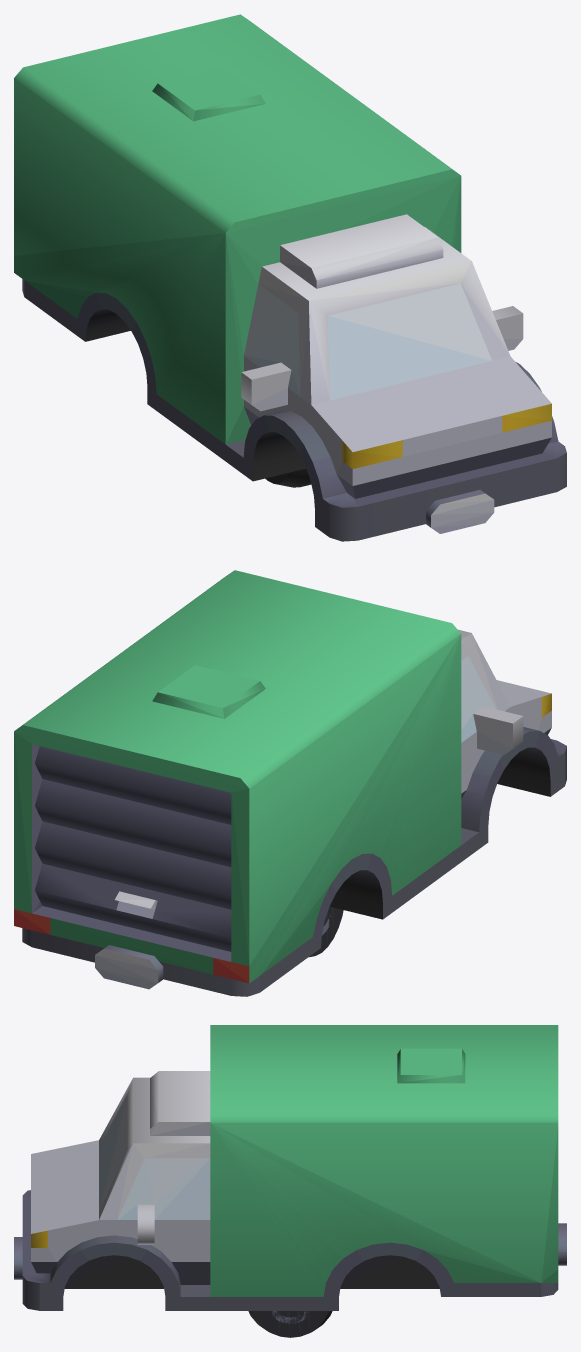
File: delivery.glb
3 renders of one model, top to bottom at view 1: azimuth 30°, elevation 25°; view 2: azimuth 150°, elevation 25°; view 3: azimuth 270°, elevation 25°, orthographic. The views are drawn at different scales.
Parts seen in each view (by area): view 1: body_paint, trim; view 2: body_paint, trim, wheel_right; view 3: body_paint, trim, wheel_left.
Part boxes in pixels (x1=…): body_paint: x1=14, y1=14, x2=461, y2=444; trim: x1=22, y1=214, x2=566, y2=541; body_paint: x1=14, y1=570, x2=461, y2=983; trim: x1=14, y1=629, x2=566, y2=996; wheel_right: x1=309, y1=907, x2=343, y2=957; body_paint: x1=210, y1=1025, x2=558, y2=1296; trim: x1=14, y1=1071, x2=566, y2=1310; wheel_left: x1=248, y1=1311, x2=332, y2=1337.
Bounding box in the file's own units: 2.1 × 2.44 × 4.5.
